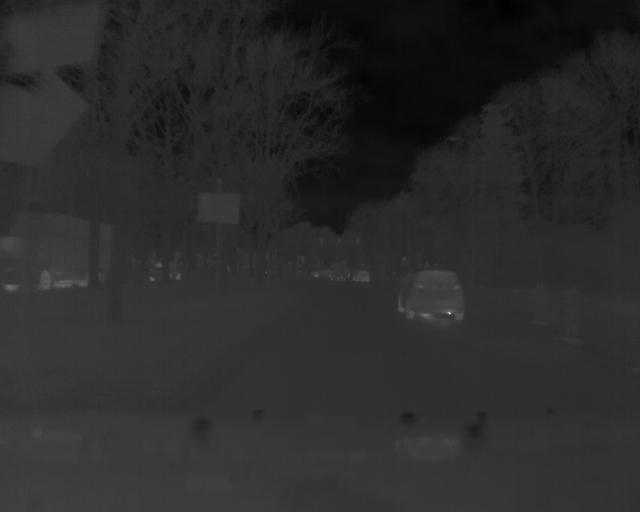car: (1, 213, 115, 295), (396, 266, 473, 328), (146, 261, 183, 281)
